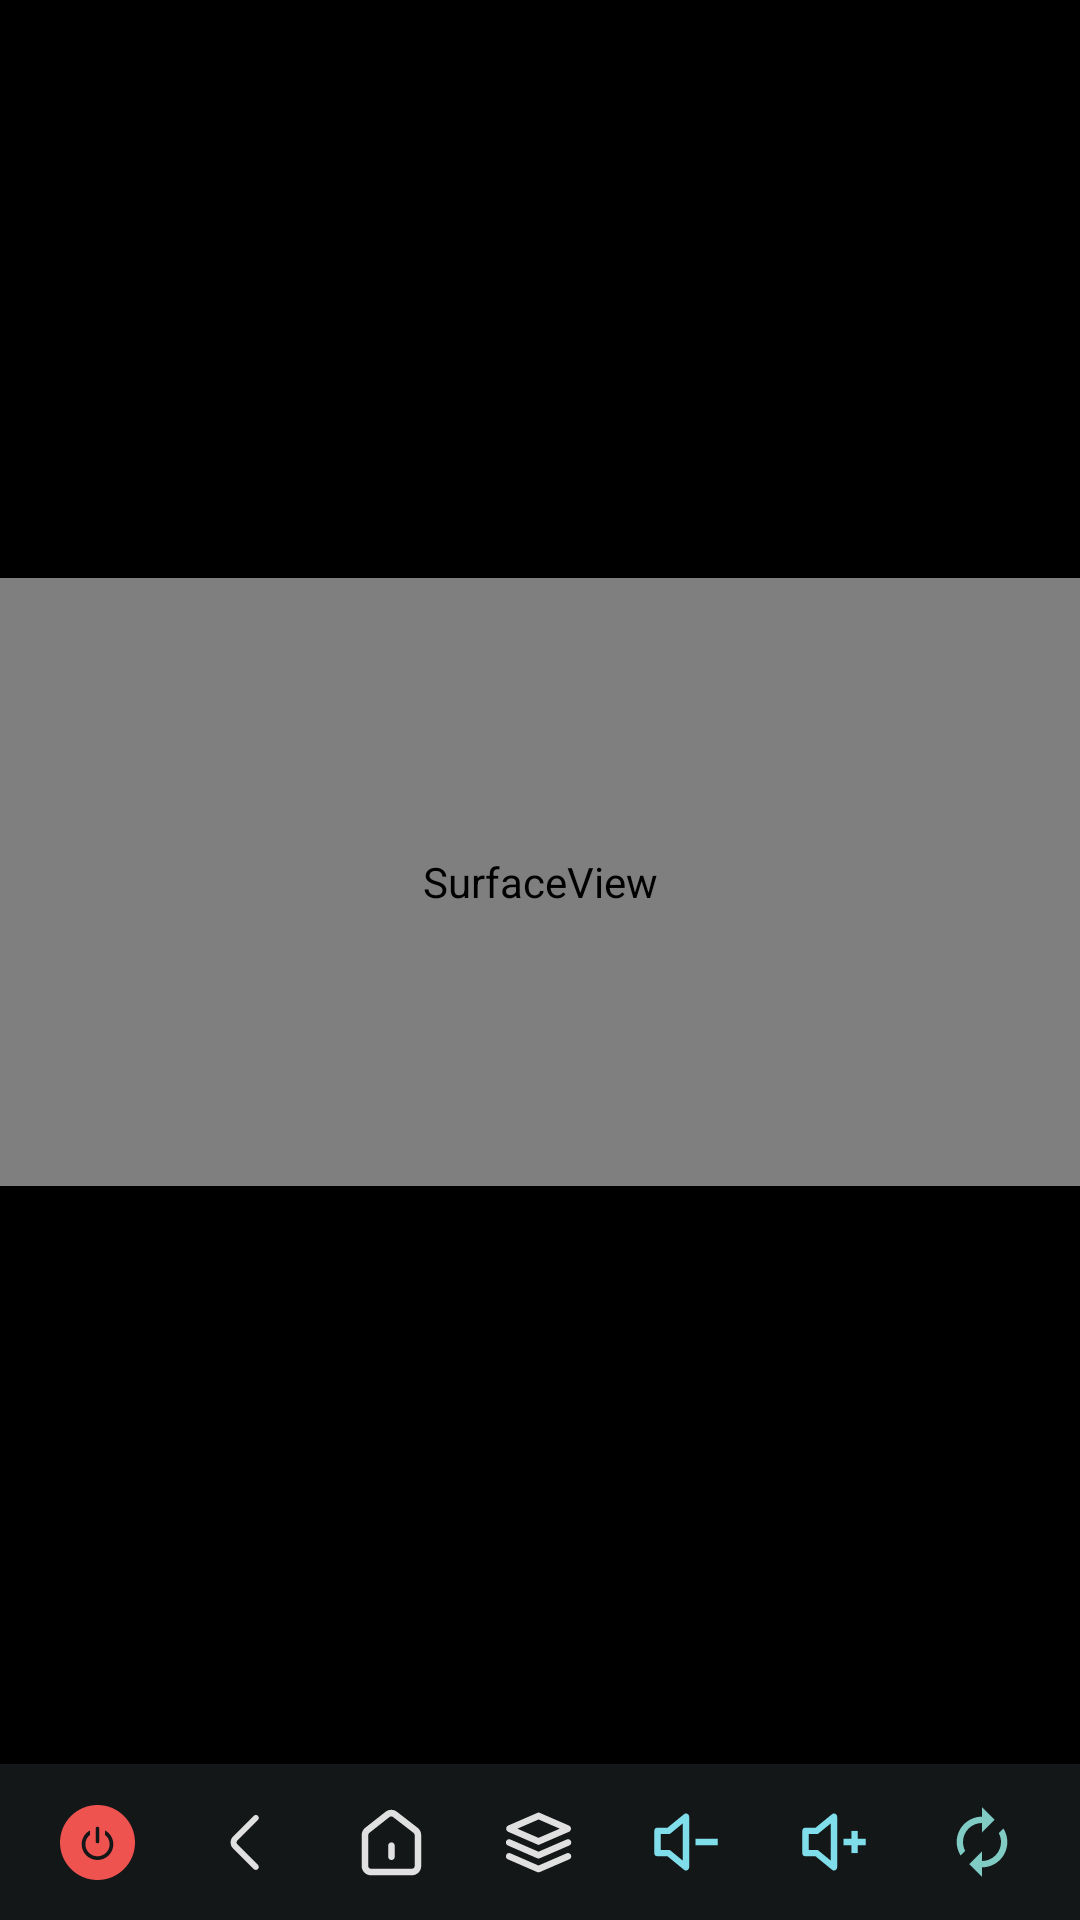

Screen size 1080px x 1920px. Icon name, then its center in pixels as point (x, y):
back: point (244, 1842)
home: point (391, 1842)
power: point (97, 1842)
rotate: point (982, 1842)
tasks: point (539, 1842)
vol down: point (686, 1842)
vol up: point (834, 1842)
